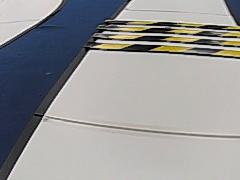bump: (82, 15, 240, 62)
